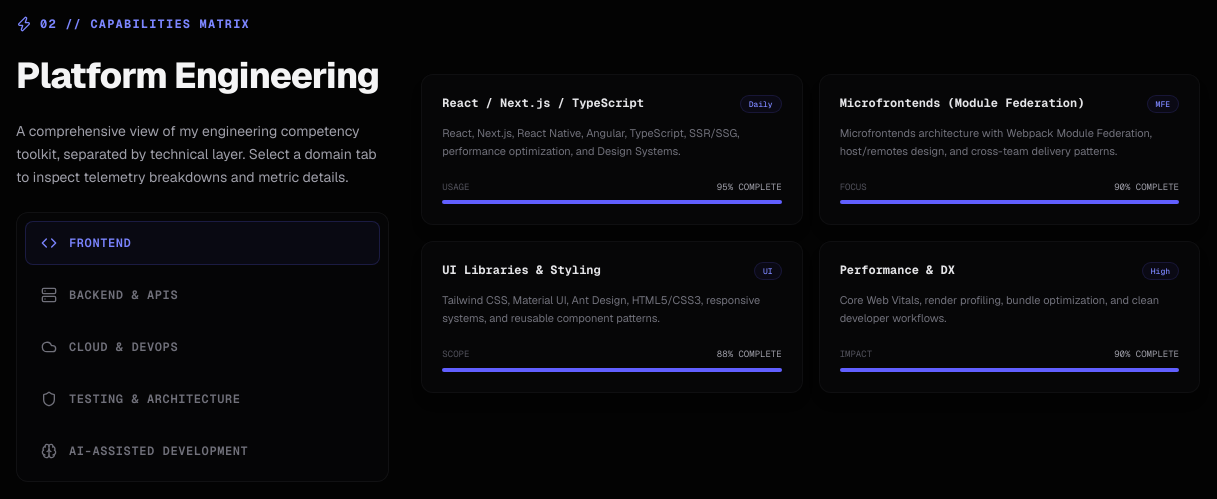
Scenario: CapabilitiesSectionContainer › should switch capability category when a tab is clicked
Click the button "BACKEND & APIS" at (124, 295), box [25,273,380,317]
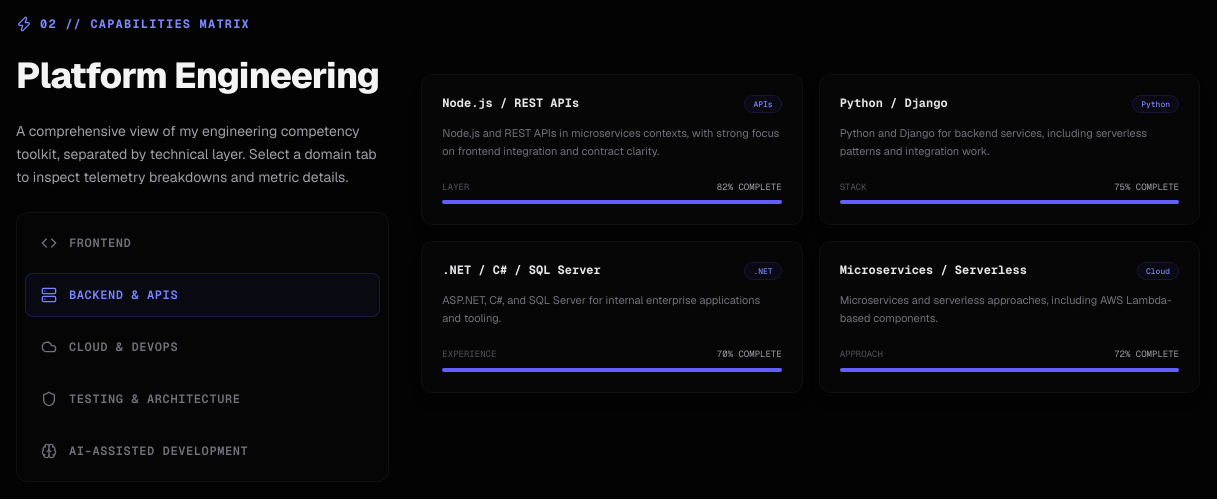
expect the heading "Node.js / REST APIs" is shown: met, box [442,95,579,111]
expect the heading "React / Next.js / TypeScript" is gone: met
